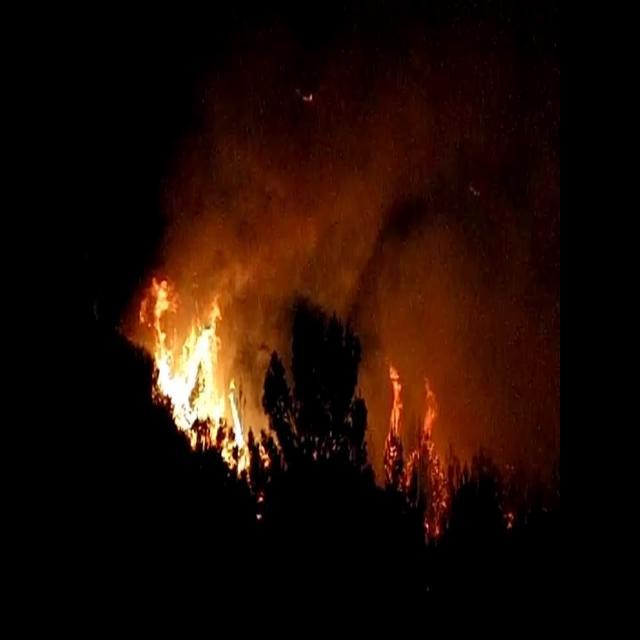Fire: (140, 274, 290, 484), (382, 362, 448, 536)
Smoke: (118, 68, 560, 492)
